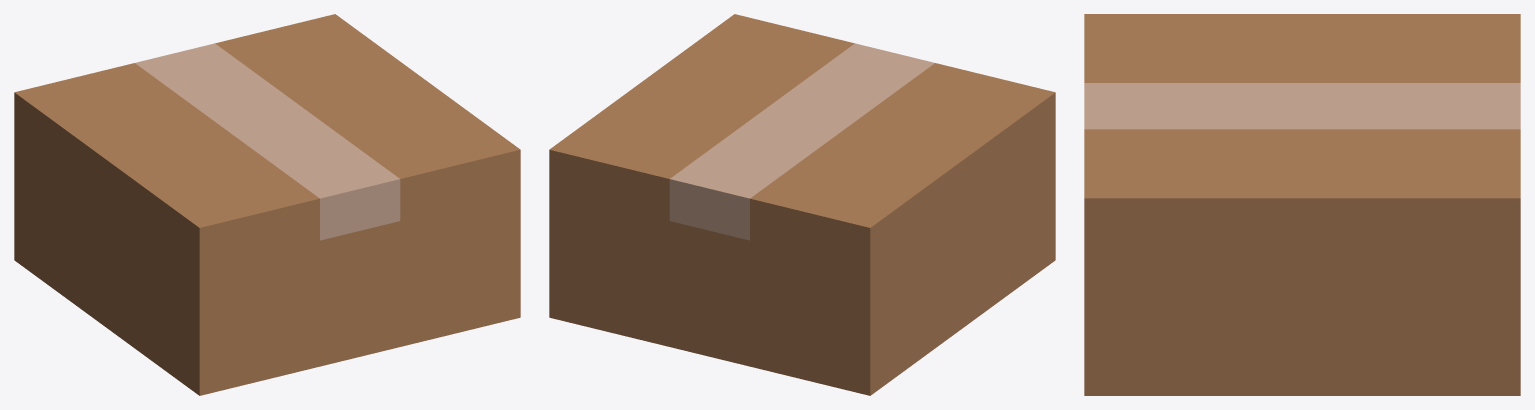
Rendered from KidsRoomStorage-7.obj.
3 views of the same model, side by side, from view 1: azimuth 30°, elevation 25°; view 2: azimuth 150°, elevation 25°; view 3: azimuth 270°, elevation 25° (orthographic). The views are drawn at different scales.
Size of the model in its own units: 0.8 by 0.4 by 0.8.
1 material, 1 textured.
